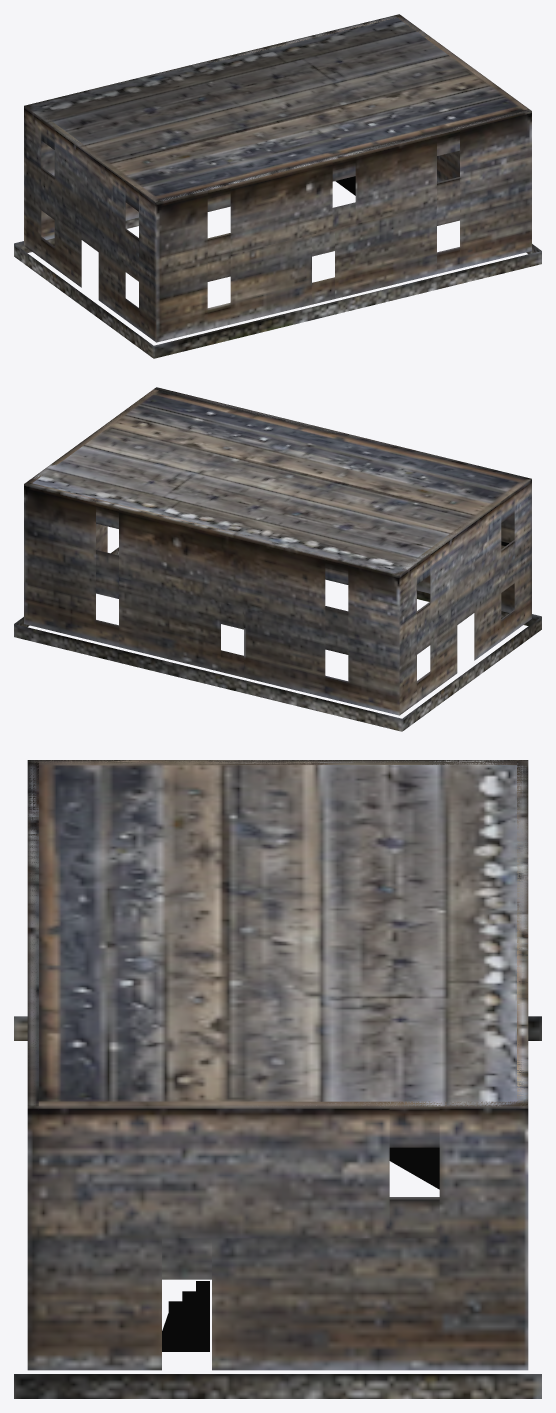
File: skin_forest_95_-45.glb
3 renders of one model, top to bottom at view 1: azimuth 30°, elevation 25°; view 2: azimuth 150°, elevation 25°; view 3: azimuth 270°, elevation 25°, orthographic. The views are drawn at different scales.
Visible parts, largest first — view 1: forest_95_-45; view 2: forest_95_-45; view 3: forest_95_-45.
Boxes of the visible parts, x1,y1,x2,y2 form: forest_95_-45: (14,14,541,358); forest_95_-45: (14,387,541,731); forest_95_-45: (14,760,541,1398).
Bounding box in the file's own units: 18.6 × 6.95 × 11.6.
Materials: 1 (1 with a texture image).
